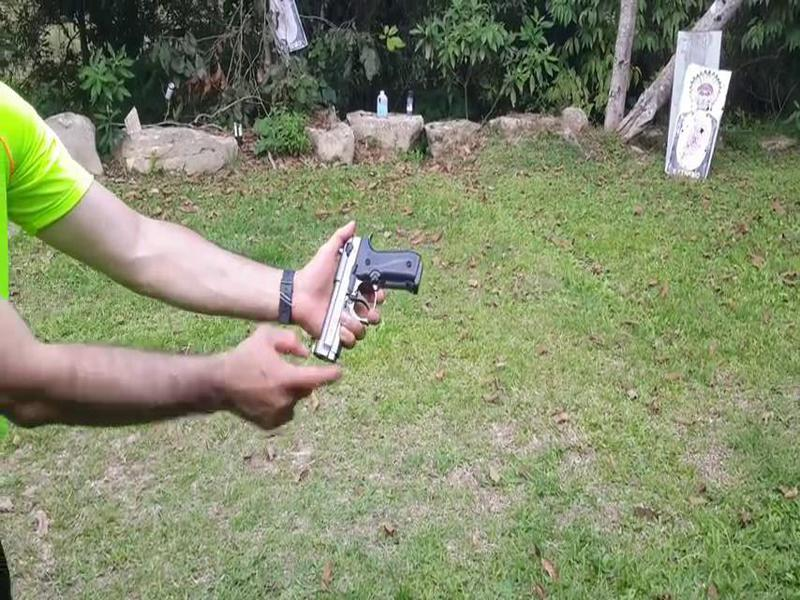Pistola: (310, 227, 429, 374)
